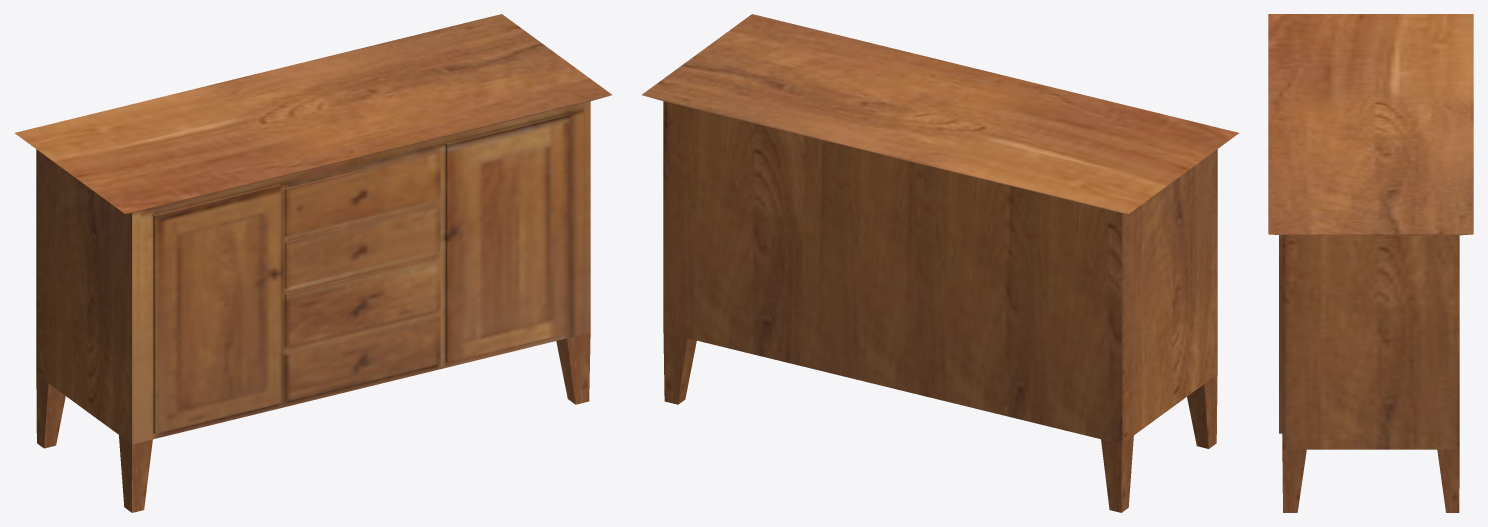
Rendered from comoda_e.glb.
3 views of the same model, side by side, from view 1: azimuth 30°, elevation 25°; view 2: azimuth 150°, elevation 25°; view 3: azimuth 270°, elevation 25° (orthographic). The views are drawn at different scales.
Parts seen in each view (by area): view 1: comoda_e; view 2: comoda_e; view 3: comoda_e.
Boxes of the visible parts, bbox=[...] form: comoda_e: bbox=[14, 14, 611, 512]; comoda_e: bbox=[642, 14, 1238, 512]; comoda_e: bbox=[1268, 14, 1473, 512].
Bounding box in the file's own units: 1.74 × 1.05 × 0.6849.
Materials: 1 (1 with a texture image).
